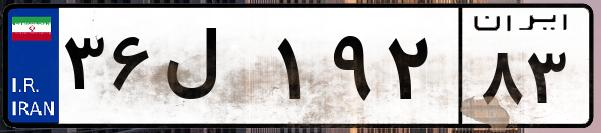1: (270, 28, 330, 110)
2: (385, 28, 445, 110)
3: (57, 26, 110, 100), (525, 38, 570, 115)
6: (110, 28, 158, 98)
8: (475, 38, 525, 113)
9: (330, 28, 385, 110)
ل: (158, 20, 270, 120)
